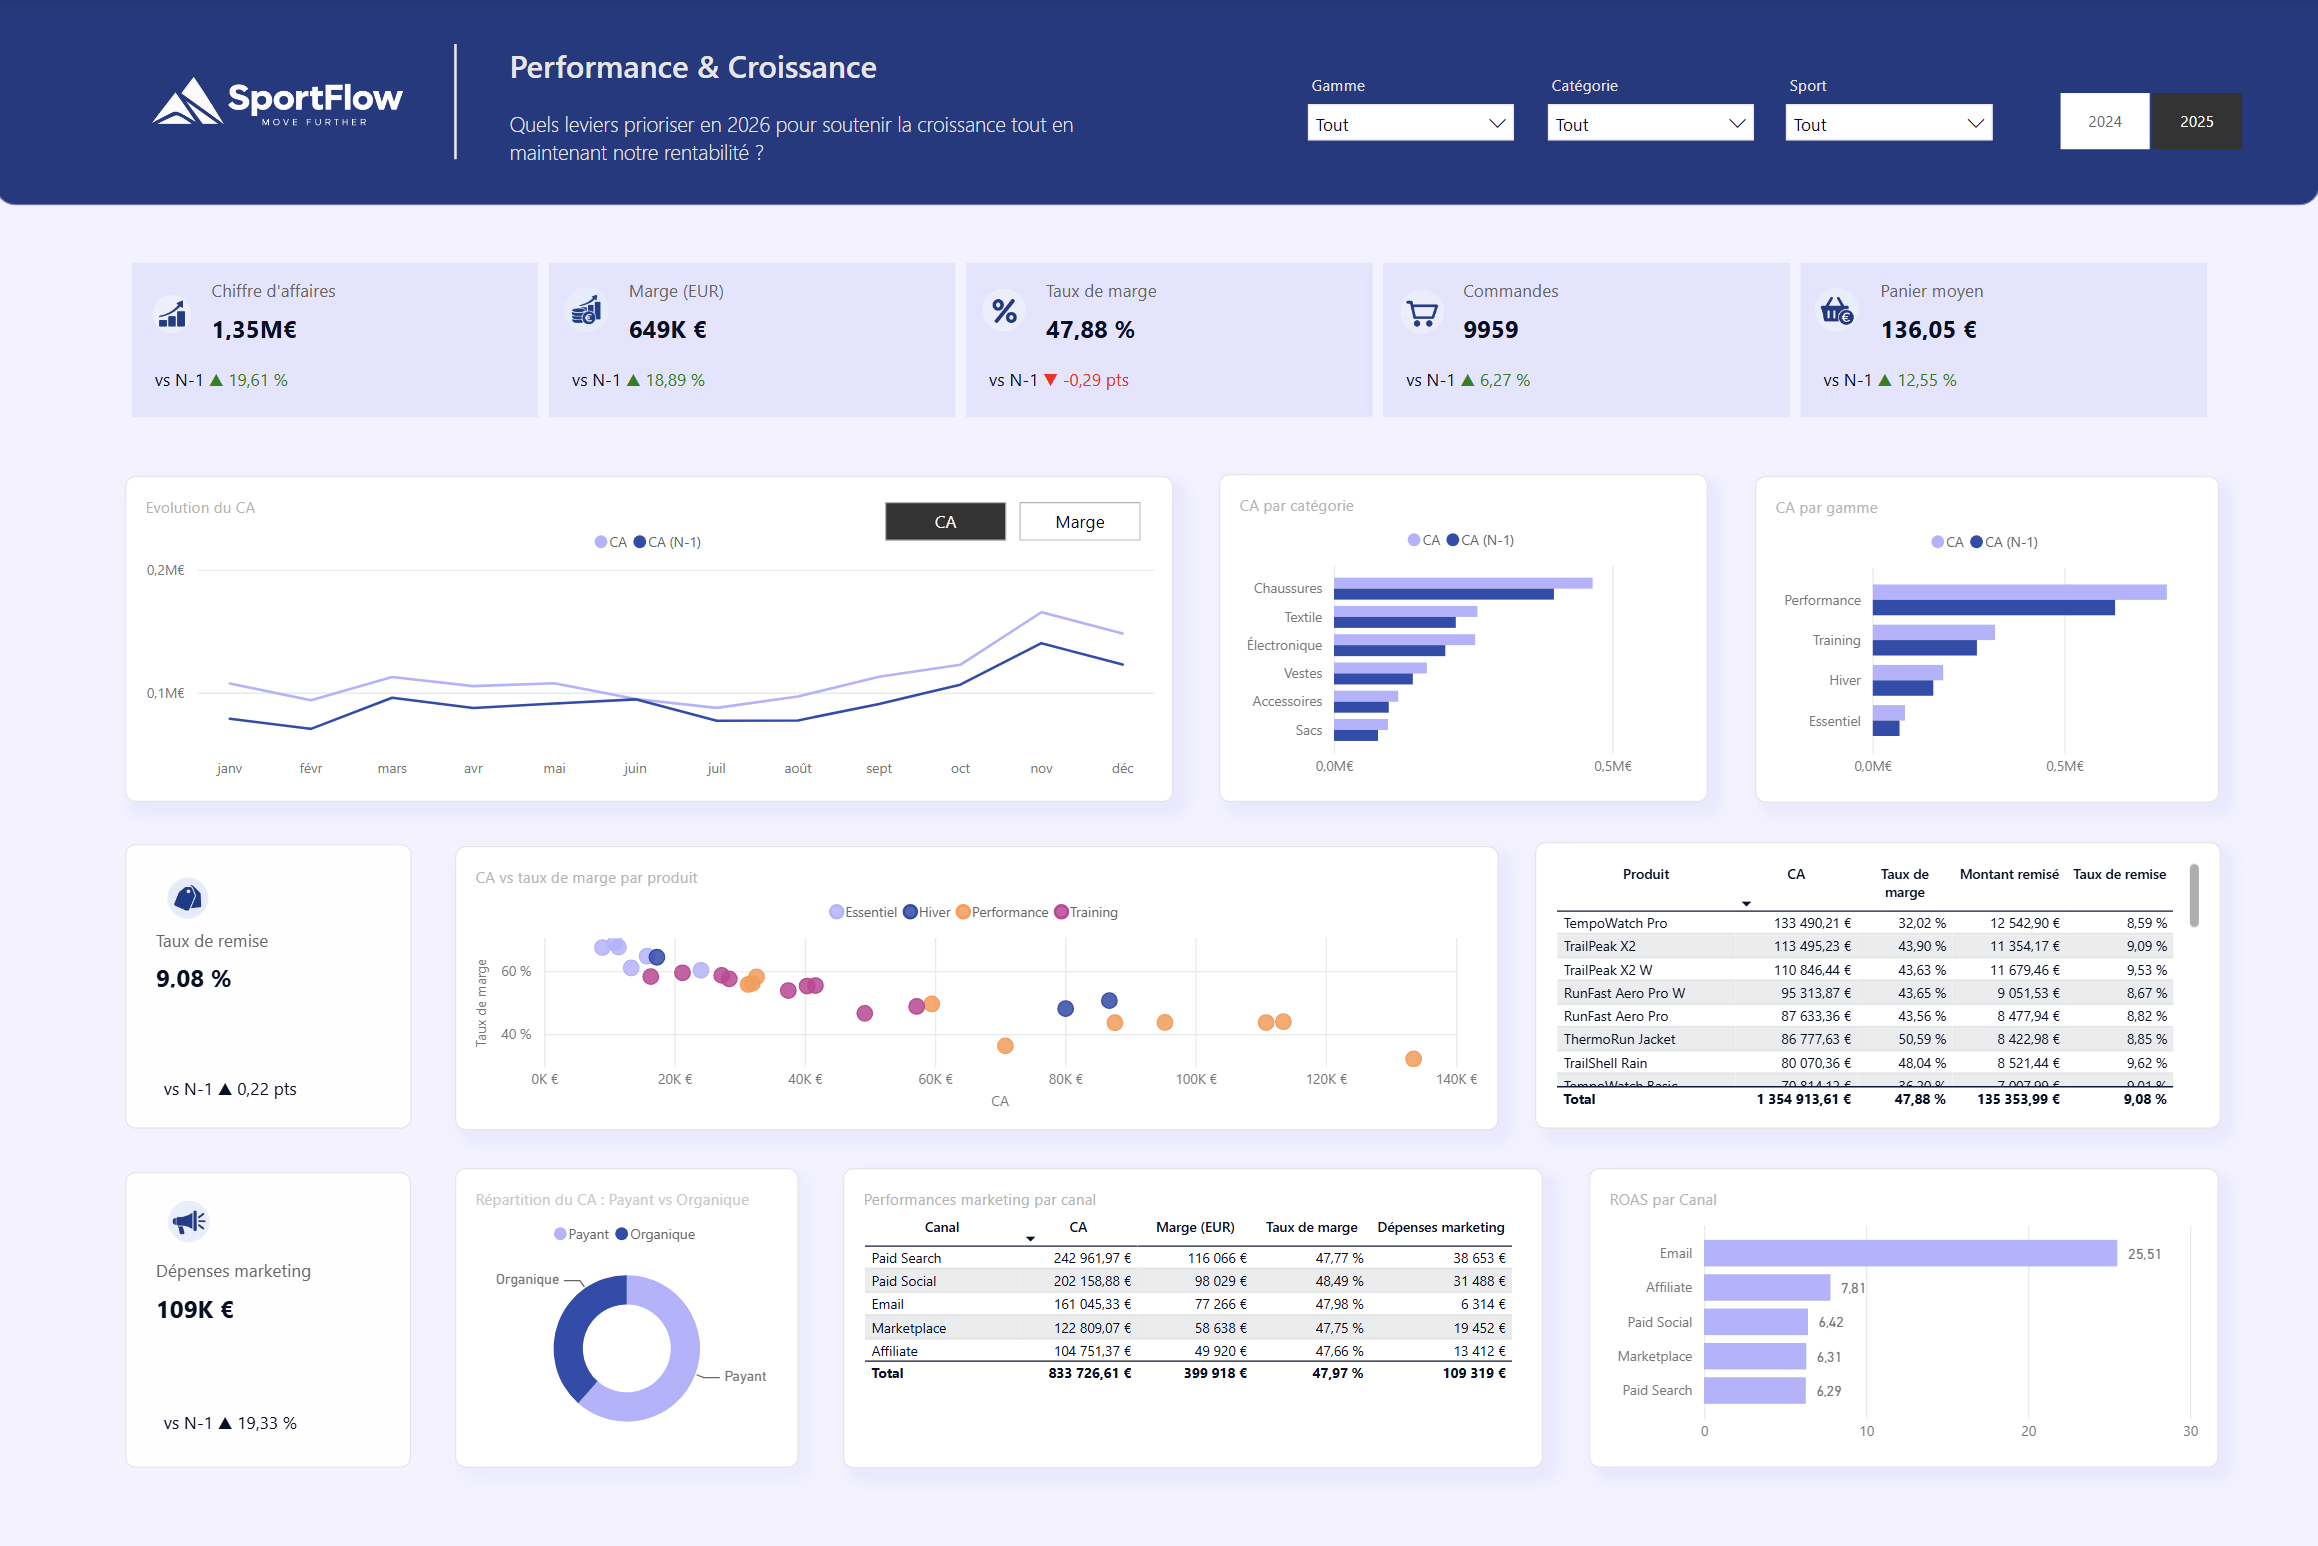

The page's visual inventory and layout, read from the dashboard file:
{"tool":"powerbi","page":{"name":"Performance & Croissance","canvas":[1800,1200],"ordinal":0},"visuals":[{"type":"shape","box":[0,0,1800,160.6],"z":0},{"type":"cardVisual","fields":{"Data":["Mesures.CA livré","Mesures.Marge livrée","Mesures.Marge (%)","Mesures.Commandes","Mesures.Panier moyen"]},"box":[100,200,1621.4,130],"z":1000},{"type":"lineChart","title":"Evolution du CA","fields":{"Y":["Mesures.CA livré","Mesures.CA livré (N-1)"],"Category":["Dim_Calendar.Année Hiérarchie.Mois"]},"box":[100,370.5,811.5,252.5],"z":3000},{"type":"tableEx","title":"Performances marketing par canal","fields":{"Values":["Dim_Channel.Channel","Mesures.CA livré","Mesures.Marge (EUR)","Mesures.Marge (%)","Mesures.Dépenses marketing"]},"box":[656.5,905.8,541.9,232.3],"z":4000},{"type":"tableEx","fields":{"Values":["Dim_products_raw.Product_Name","Mesures.CA livré","Mesures.Marge (%)","Mesures.Montant remisé livré","Mesures.Taux de remise"]},"box":[1191.8,653.6,530.9,221.8],"z":5000},{"type":"scatterChart","title":"CA vs taux de marge par produit","fields":{"X":["Mesures.CA livré"],"Y":["Mesures.Marge (%)"],"Category":["Dim_products_raw.Product_Name"],"Series":["Dim_products_raw.Range"]},"box":[356,656,808,220],"z":6000},{"type":"slicer","fields":{"Values":["Dim_products_raw.Range"]},"box":[1006.5,54.2,179.6,80.5],"z":7000},{"type":"slicer","fields":{"Values":["Dim_products_raw.Category"]},"box":[1192.3,54.2,179.6,80.5],"z":8000},{"type":"slicer","fields":{"Values":["Dim_products_raw.Sport"]},"box":[1376.5,54,180,80],"z":9000},{"type":"cardVisual","fields":{"Data":["Mesures.Remise moyenne"]},"box":[100,655.6,222.2,220.6],"z":10000},{"type":"clusteredBarChart","title":"CA par catégorie","fields":{"Category":["Dim_products_raw.Category"],"Y":["Mesures.CA livré","Mesures.CA livré (N-1)"]},"box":[947.5,368.9,378.7,254.1],"z":11000},{"type":"clusteredBarChart","title":"CA par gamme","fields":{"Y":["Mesures.CA livré","Mesures.CA livré (N-1)"],"Category":["Dim_products_raw.Range"]},"box":[1362.2,369.7,359.7,252.9],"z":12000},{"type":"donutChart","title":"Répartition du CA : Payant vs Organique","fields":{"Y":["Mesures.CA livré"],"Category":["Dim_Channel.Organique / Payant"]},"box":[356,906,266,232],"z":13000},{"type":"clusteredBarChart","title":"ROAS par Canal","fields":{"Y":["Mesures.ROAS"],"Category":["Dim_Channel.Channel"]},"box":[1234.5,905.9,487.4,231.9],"z":14000},{"type":"textbox","box":[393.9,30.3,525.8,122.7],"z":15000},{"type":"slicer","fields":{"Values":["Dim_Calendar.Année"]},"box":[1573.2,66.6,190.5,57.3],"z":16000},{"type":"image","box":[107.6,31.8,224.2,95.5],"z":17000},{"type":"shape","box":[301.5,34.8,109.1,89.4],"z":18000},{"type":"image","box":[111.7,219.6,51.7,49.1],"z":19000},{"type":"image","box":[432.5,216.2,51.2,48.8],"z":20000},{"type":"image","box":[756.2,216.2,51.2,48.8],"z":21000},{"type":"image","box":[1078.8,218.8,51.2,48.8],"z":22000},{"type":"image","box":[1400,216.2,52.5,48.8],"z":23000},{"type":"image","box":[123.8,673,50.8,46],"z":24000},{"type":"bookmarkNavigator","box":[688.6,390,198.6,30],"z":25000},{"type":"cardVisual","fields":{"Data":["Mesures.Dépenses marketing"]},"box":[100.6,908.9,221.4,229.2],"z":27000},{"type":"image","box":[123.8,922.2,52.4,47.6],"z":27500}]}

Visuals, with their boxes in screenshot pixels (x1, y1, x2, y2), scaled from the page's 1800x1200 canvas onto the 2318x1546 screenshot:
shape: x1=0, y1=0, x2=2317, y2=207
cardVisual - Mesures.CA livré x Mesures.Marge livrée: x1=129, y1=258, x2=2217, y2=425
"Evolution du CA" lineChart: x1=129, y1=477, x2=1174, y2=803
"Performances marketing par canal" tableEx: x1=845, y1=1167, x2=1543, y2=1466
tableEx - Dim_products_raw.Product_Name x Mesures.CA livré: x1=1535, y1=842, x2=2218, y2=1128
"CA vs taux de marge par produit" scatterChart: x1=458, y1=845, x2=1499, y2=1129
slicer - Dim_products_raw.Range: x1=1296, y1=70, x2=1527, y2=174
slicer - Dim_products_raw.Category: x1=1535, y1=70, x2=1767, y2=174
slicer - Dim_products_raw.Sport: x1=1773, y1=70, x2=2004, y2=173
cardVisual - Mesures.Remise moyenne: x1=129, y1=845, x2=415, y2=1129
"CA par catégorie" clusteredBarChart: x1=1220, y1=475, x2=1708, y2=803
"CA par gamme" clusteredBarChart: x1=1754, y1=476, x2=2217, y2=802
"Répartition du CA : Payant vs Organique" donutChart: x1=458, y1=1167, x2=801, y2=1466
"ROAS par Canal" clusteredBarChart: x1=1590, y1=1167, x2=2217, y2=1466
textbox: x1=507, y1=39, x2=1184, y2=197
slicer - Dim_Calendar.Année: x1=2026, y1=86, x2=2271, y2=160
image: x1=139, y1=41, x2=427, y2=164
shape: x1=388, y1=45, x2=529, y2=160
image: x1=144, y1=283, x2=210, y2=346
image: x1=557, y1=279, x2=623, y2=341
image: x1=974, y1=279, x2=1040, y2=341
image: x1=1389, y1=282, x2=1455, y2=345
image: x1=1803, y1=279, x2=1870, y2=341
image: x1=159, y1=867, x2=225, y2=926
bookmarkNavigator: x1=887, y1=502, x2=1143, y2=541
cardVisual - Mesures.Dépenses marketing: x1=130, y1=1171, x2=415, y2=1466
image: x1=159, y1=1188, x2=227, y2=1249
